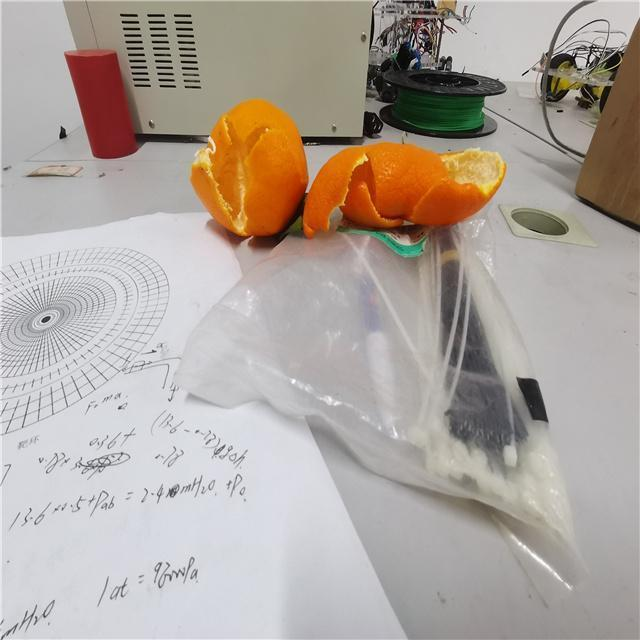orange peel: (305, 142, 509, 238), (189, 98, 309, 241)
